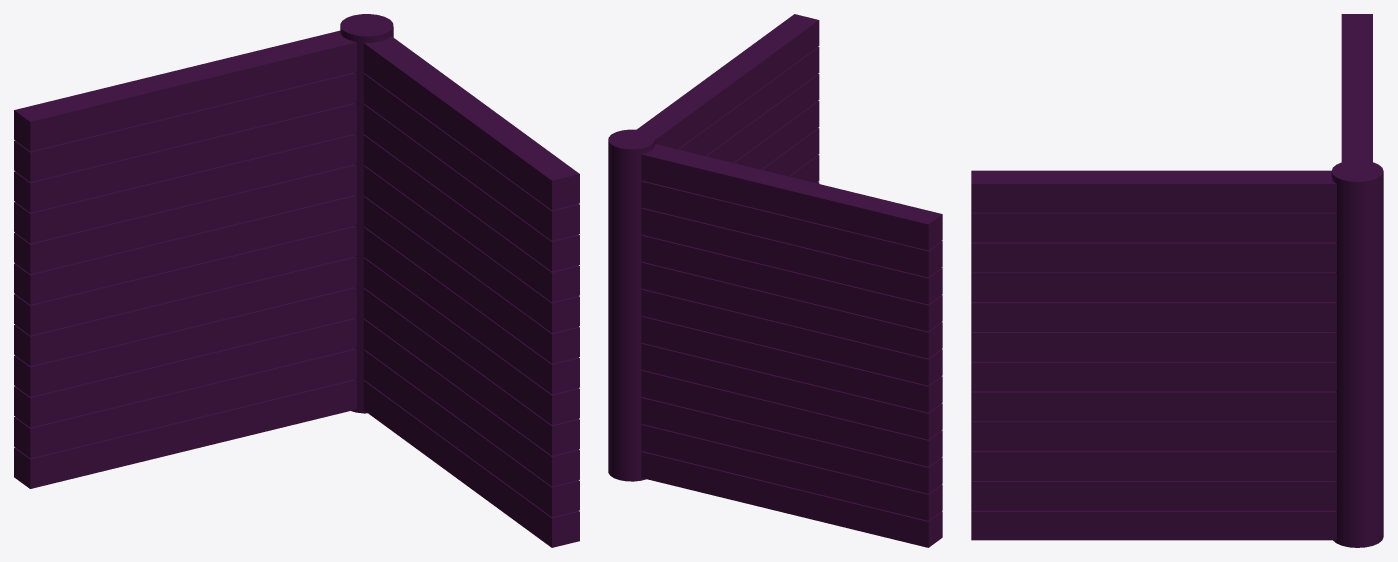
The model's file is pared_esquinero.fbx.
The picture shows the model from 3 angles, left to right: view 1: azimuth 30°, elevation 25°; view 2: azimuth 150°, elevation 25°; view 3: azimuth 270°, elevation 25°; orthographic projection. The views are drawn at different scales.
Visible parts, largest first — view 1: pared_esquinero; view 2: pared_esquinero; view 3: pared_esquinero.
Boxes of the visible parts, bbox=[...] form: pared_esquinero: bbox=[14, 14, 579, 547]; pared_esquinero: bbox=[608, 14, 942, 547]; pared_esquinero: bbox=[971, 14, 1383, 547].
Size of the model in its own units: 5.89 by 5.77 by 5.89.
